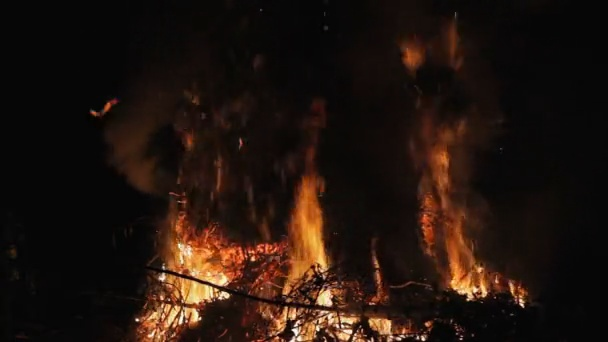fire: (274, 179, 360, 342), (139, 243, 229, 340), (446, 234, 489, 300), (507, 280, 527, 309), (367, 318, 391, 342)
